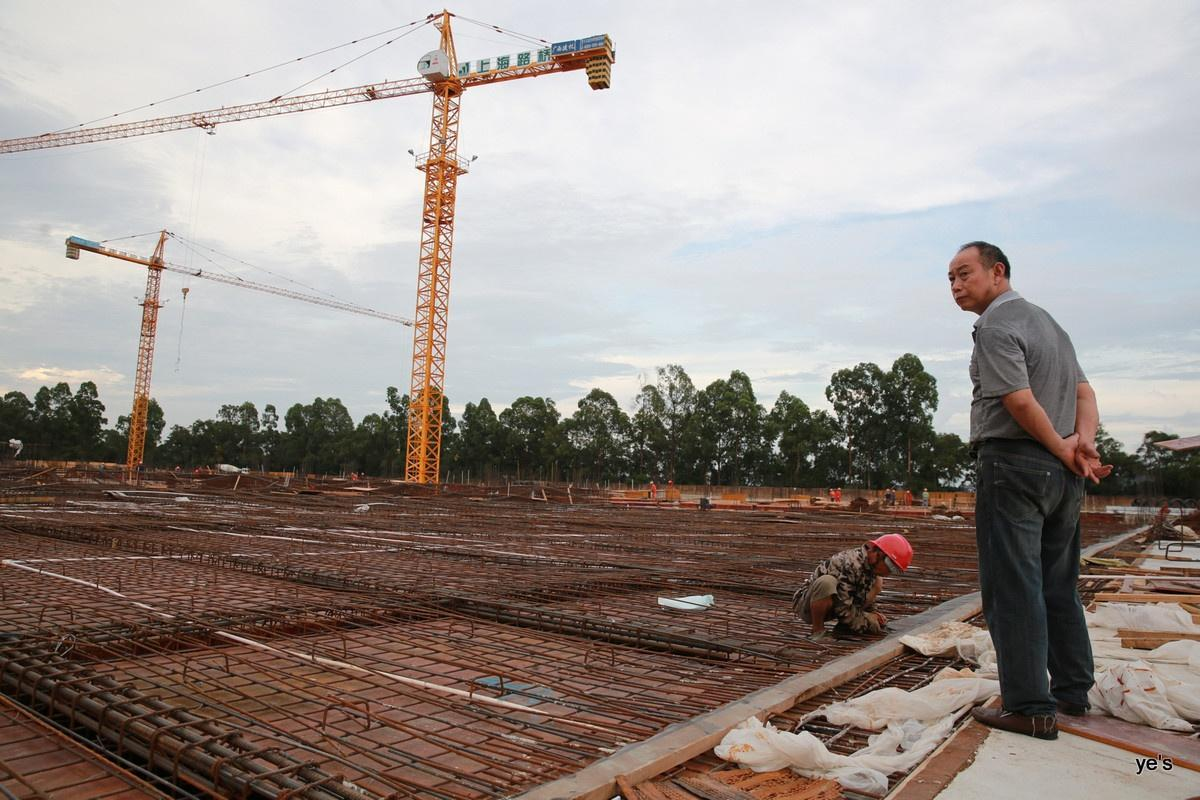helmet: (865, 532, 914, 574), (921, 489, 931, 509), (137, 461, 145, 476), (649, 480, 655, 484), (667, 479, 673, 483), (905, 490, 911, 494), (886, 488, 890, 492), (830, 487, 833, 492), (838, 487, 841, 491), (892, 489, 896, 492), (139, 461, 143, 464)
no-gloves: (1059, 434, 1114, 485)
no-helmet: (949, 241, 1012, 271), (921, 492, 931, 503), (887, 494, 890, 502), (892, 494, 895, 502), (925, 489, 928, 492)
no-shoes: (969, 703, 1060, 739)
no-vest: (970, 292, 1089, 444), (813, 546, 868, 606)
person: (944, 239, 1120, 740), (788, 531, 914, 647), (650, 478, 660, 503), (903, 490, 914, 511), (884, 488, 891, 508), (828, 486, 835, 503), (836, 488, 842, 505), (667, 478, 674, 490), (892, 489, 896, 507), (139, 467, 144, 472)
